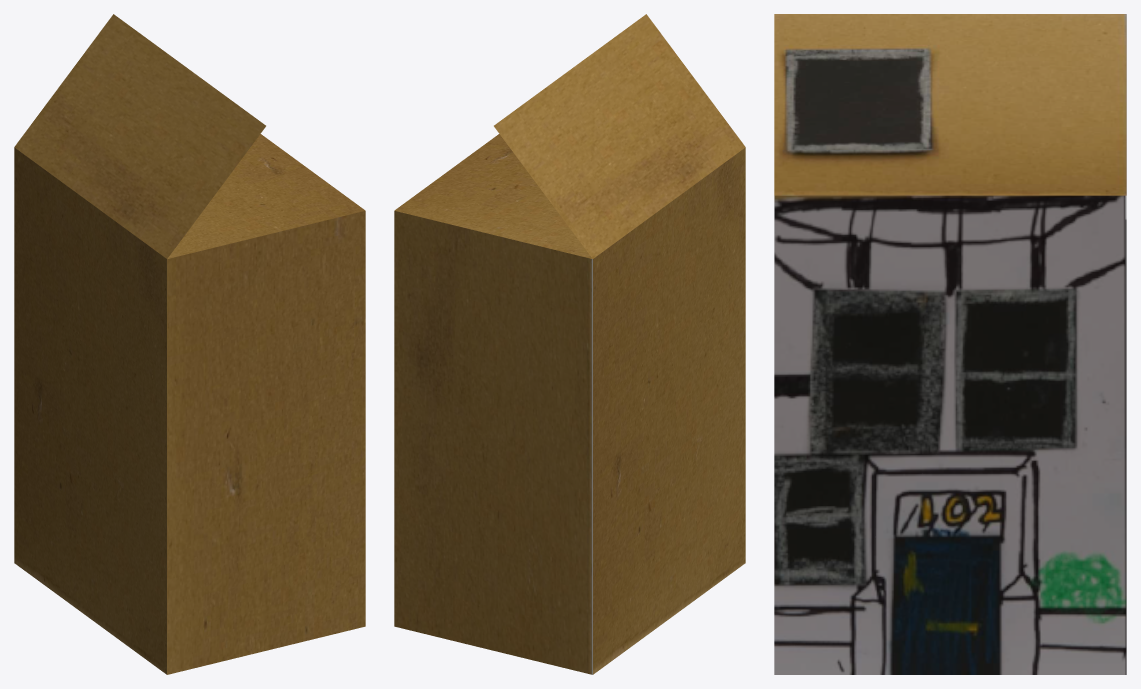
The picture shows the model from 3 angles, left to right: view 1: azimuth 30°, elevation 25°; view 2: azimuth 150°, elevation 25°; view 3: azimuth 270°, elevation 25°; orthographic projection. The views are drawn at different scales.
Visible parts, largest first — view 1: Cube; view 2: Cube; view 3: Cube.
Part boxes in pixels (x1,y1,x2,y2): Cube: (14, 14, 365, 674); Cube: (394, 14, 745, 674); Cube: (774, 14, 1126, 674).
Bounding box in the file's own units: 7.5 × 18.93 × 10.
1 material, 1 textured.
